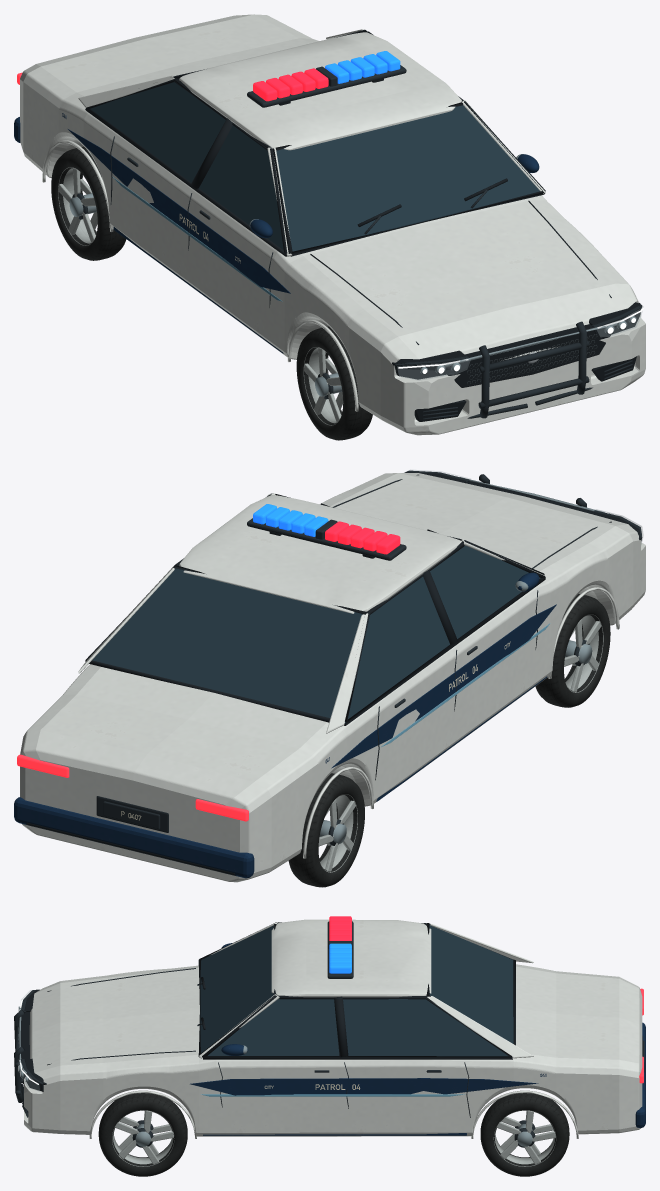
Rendered from 都市街头巡逻警车.glb.
The picture shows the model from 3 angles, top to bottom: view 1: azimuth 30°, elevation 25°; view 2: azimuth 150°, elevation 25°; view 3: azimuth 270°, elevation 25°; orthographic projection. The views are drawn at different scales.
Parts seen in each view (by area): view 1: Body, Wheel.Front.L, Wheel.Rear.L, Lightbar, Light.Front.L, Light.Front.R; view 2: Body, Wheel.Rear.L, Wheel.Front.L, Lightbar, Light.Rear.L, Light.Rear.R; view 3: Body, Wheel.Front.R, Wheel.Rear.R, Lightbar, Light.Front.R.
Boxes of the visible parts, x1,y1,x2,y2 form: Body: (14,14,645,435); Wheel.Front.L: (296,326,372,440); Wheel.Rear.L: (51,146,126,260); Lightbar: (247,51,406,107); Light.Front.L: (392,350,470,380); Light.Front.R: (589,302,643,336); Body: (14,473,645,882); Wheel.Rear.L: (288,773,364,887); Wheel.Front.L: (535,594,610,707); Lightbar: (247,504,406,560); Light.Rear.L: (195,799,248,821); Light.Rear.R: (17,754,69,777); Body: (14,919,645,1138); Wheel.Front.R: (98,1093,187,1176); Wheel.Rear.R: (480,1093,569,1176); Lightbar: (327,916,353,978); Light.Front.R: (18,1059,46,1091).
Bounding box in the file's own units: 1.8 × 1.48 × 4.5.
Materials: 18 (4 with a texture image).
